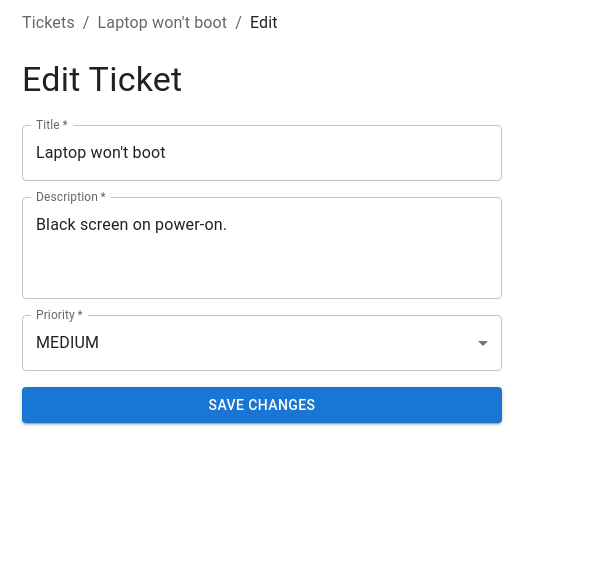
Scenario: Update ticket › updates title/description/priority and returns to the read-only detail page with the change reflected (FR-004, FR-019)
The image size is (591, 561).
Click the dropdown named "priority" at (68, 343), box [36,334,99,352]
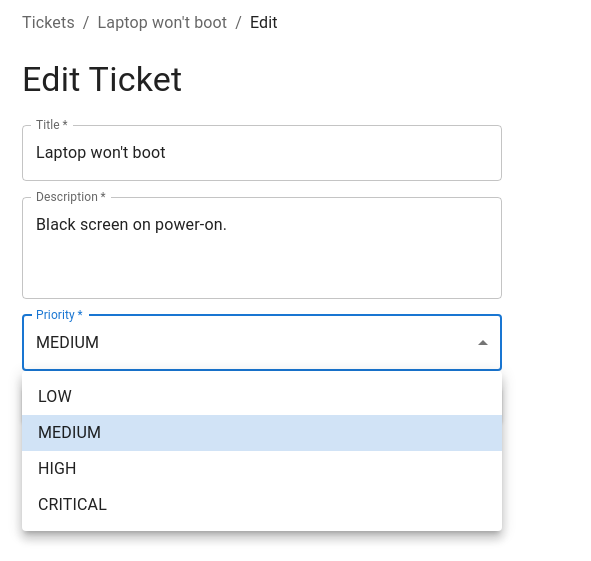
Click the option "HIGH" at (57, 468), box [38,459,77,478]
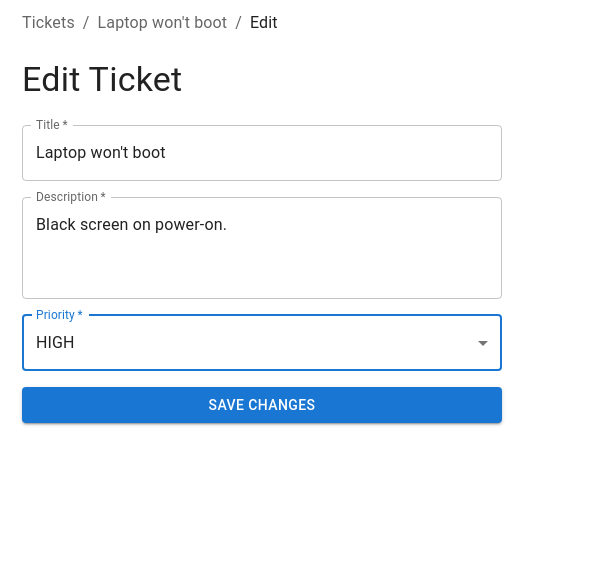
Click the button "Save Changes" at (262, 405), box [22,387,502,424]
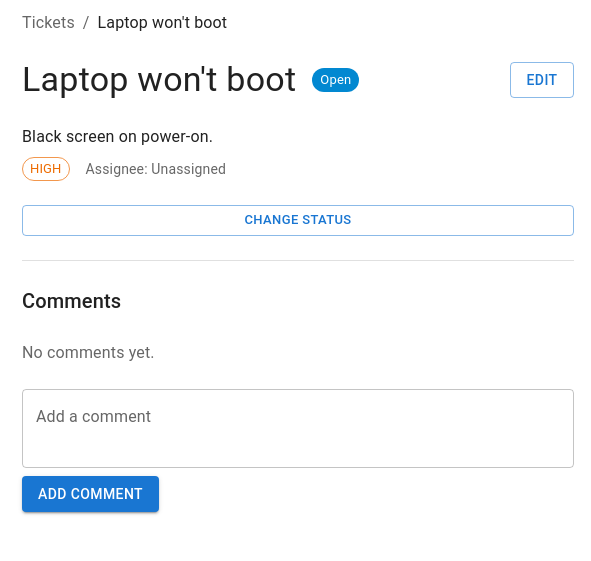
Expected: the text "HIGH" is shown, [30,161,62,176]
Expected: the heading "Laptop won't boot" is shown, [22,59,296,101]
